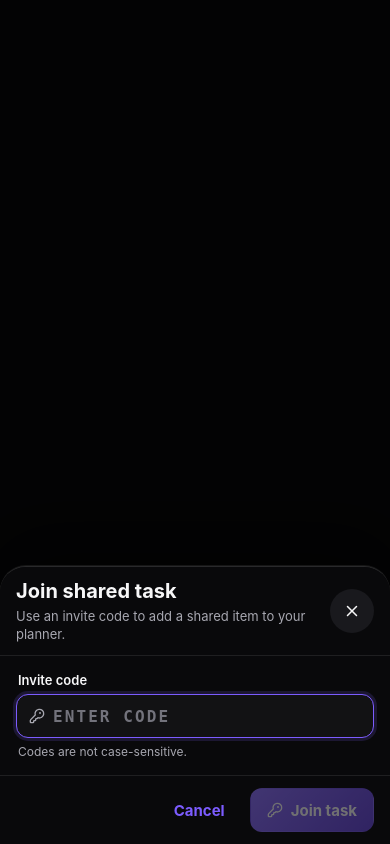
Test: shows an invalid-code error
This screenshot has width=390, height=844.
Type "wrong" into the field labelled "Invite code" at {"x": 207, "y": 716}, box [53,695,361,737]
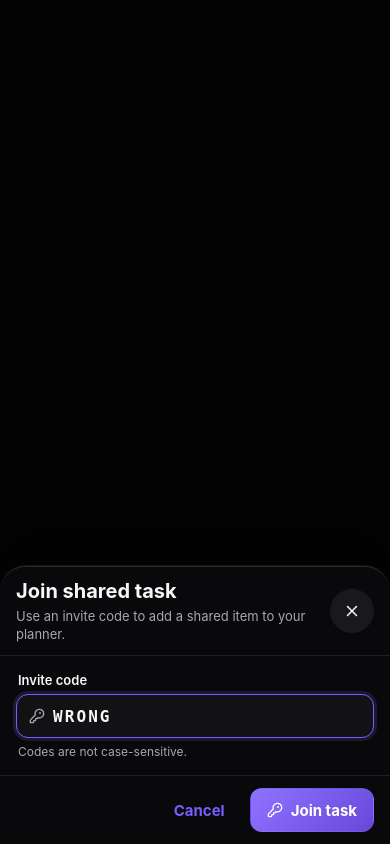
Click the button "Join task" at {"x": 312, "y": 810}, box [250,788,374,832]
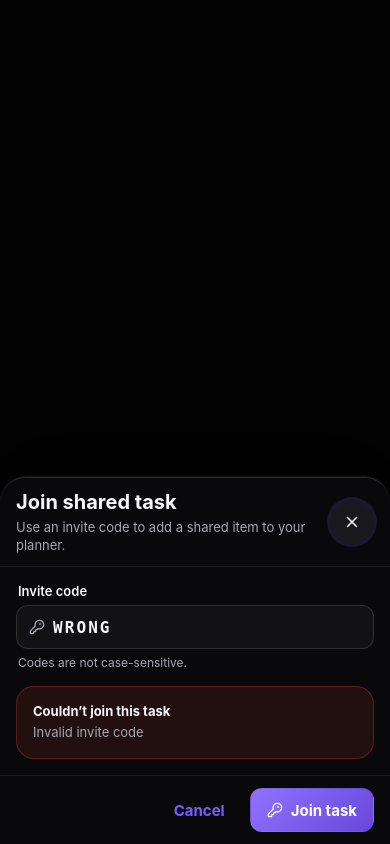
Result: the message shows "Invalid invite code" at [33,724,144,740]
